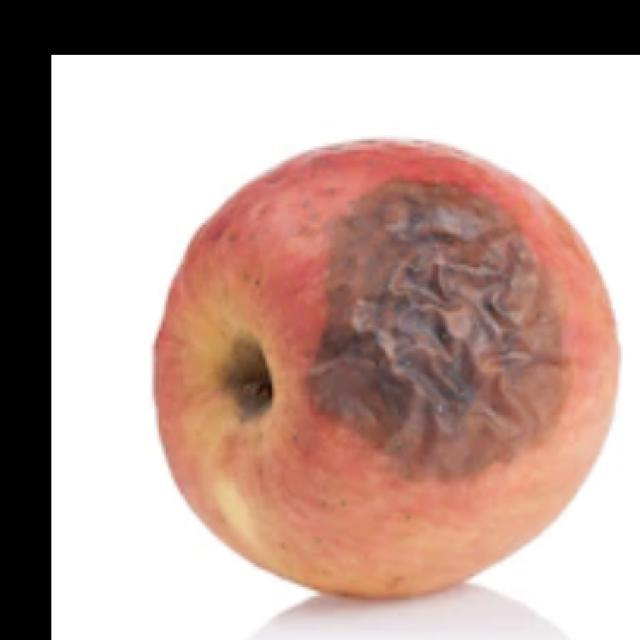Rotten: (155, 135, 637, 640)
